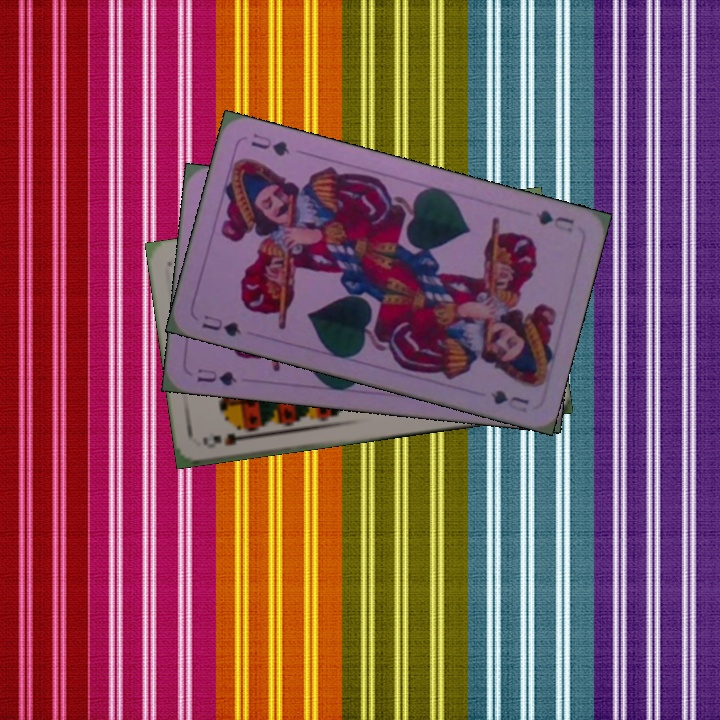GU: (198, 311, 244, 340), (532, 205, 576, 235), (193, 365, 239, 389)
S9: (198, 423, 257, 451)
